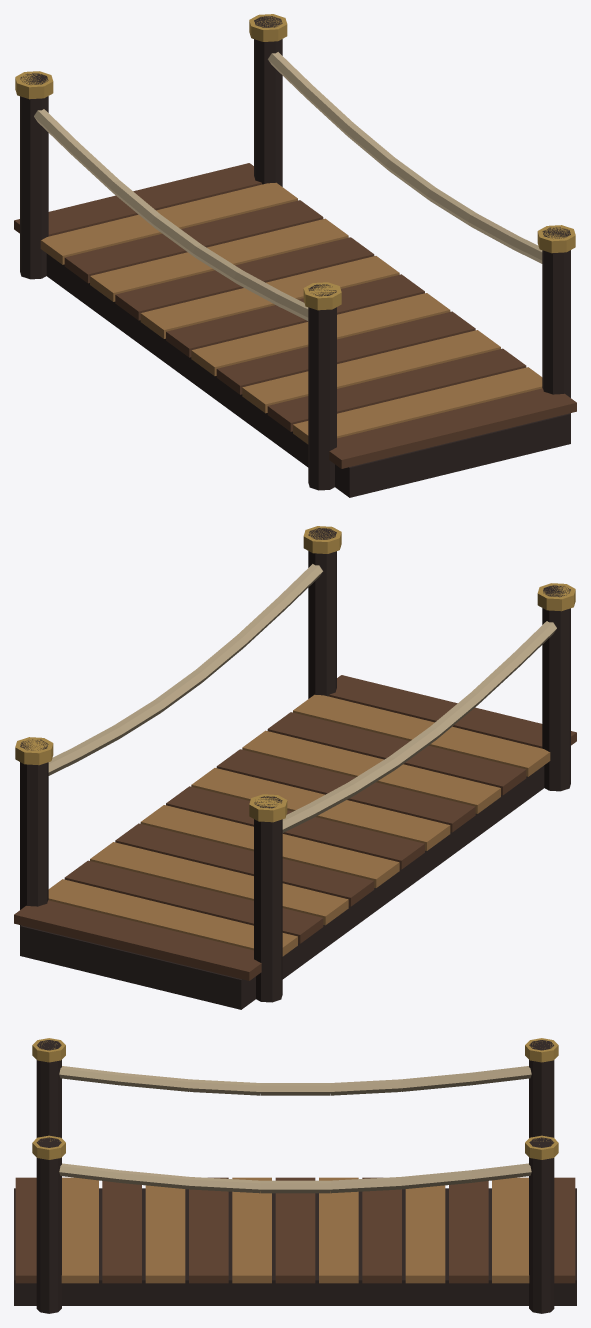
File: PirateCove_WreckPlankBridge_Showcase.glb
3 views of the same model, one above another, from view 1: azimuth 30°, elevation 25°; view 2: azimuth 150°, elevation 25°; view 3: azimuth 270°, elevation 25° (orthographic). The views are drawn at different scales.
Parts seen in each view (by area): view 1: PirateCove_WreckPlankBridge_Showcase; view 2: PirateCove_WreckPlankBridge_Showcase; view 3: PirateCove_WreckPlankBridge_Showcase.
Part boxes in pixels (x1,y1,x2,y2): PirateCove_WreckPlankBridge_Showcase: (14, 14, 576, 497); PirateCove_WreckPlankBridge_Showcase: (14, 526, 576, 1009); PirateCove_WreckPlankBridge_Showcase: (14, 1038, 576, 1313).
Bounding box in the file's own units: 1.88 × 1.3 × 4.
